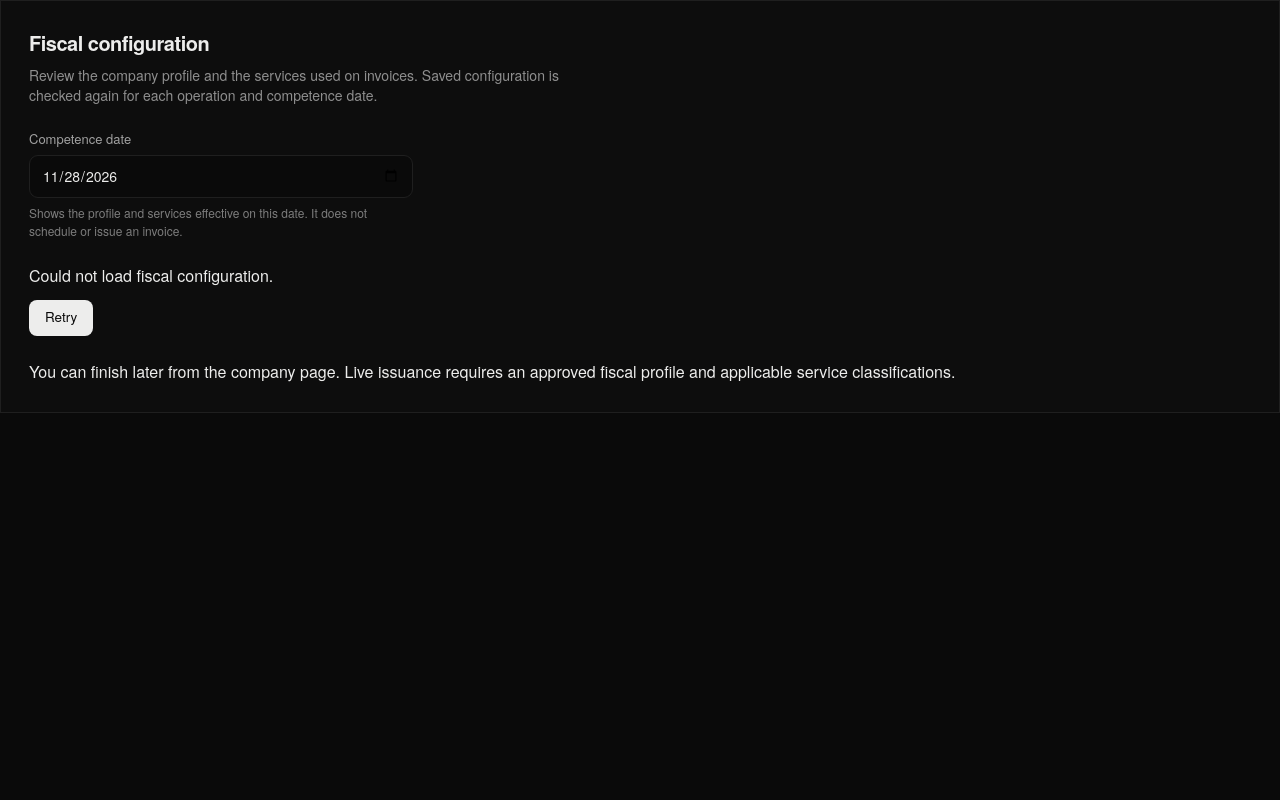
Scenario: CompanyFiscalSetup › shows fetch failures and retries instead of reporting completion
expect the message "Could not load fiscal configuration." is shown: met, box top-left (29, 264), bottom-right (273, 286)
Click the button "Retry": (61, 318) top-left (29, 300), bottom-right (93, 336)
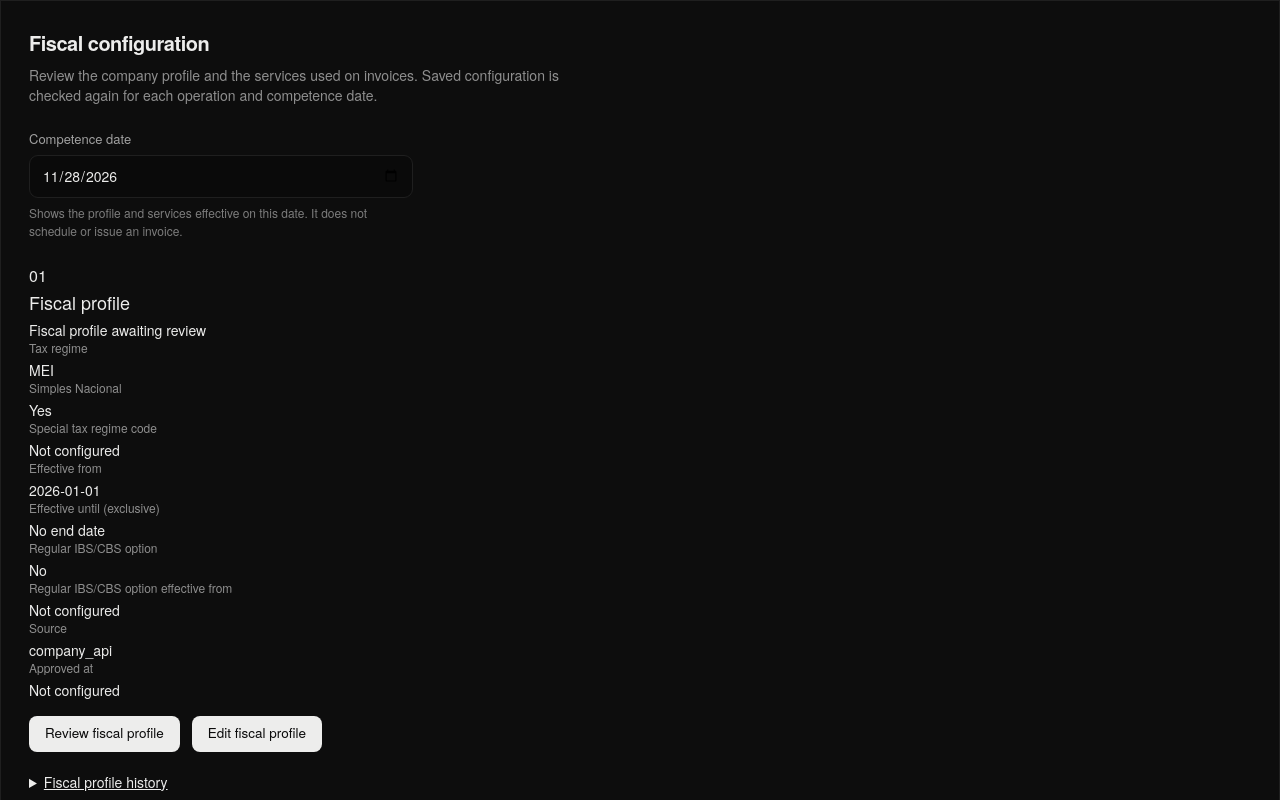
expect the text "Fiscal profile awaiting review" is shown: met, box top-left (29, 320), bottom-right (206, 340)
